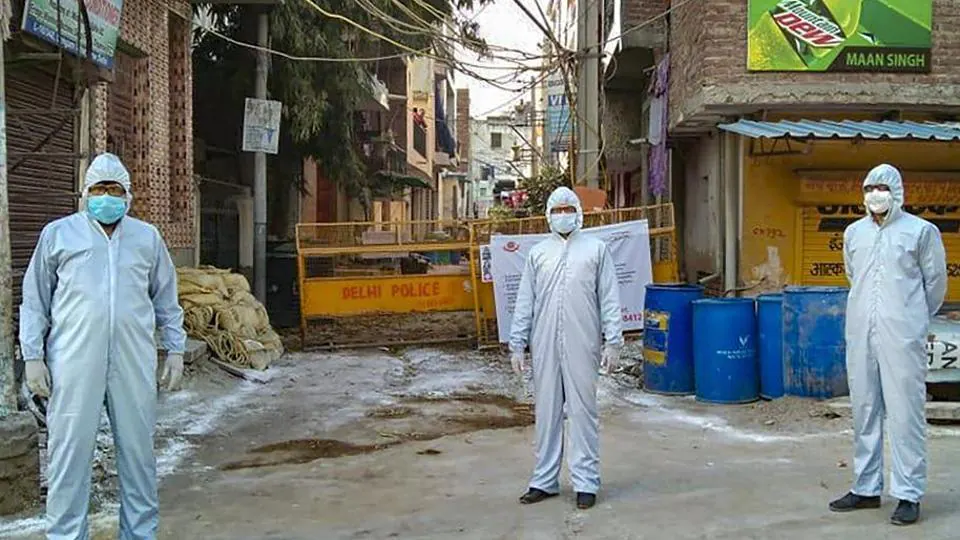Coverall: (19, 153, 189, 540), (506, 185, 626, 487), (847, 164, 948, 488)
Gloves: (156, 348, 188, 390), (22, 360, 55, 393), (600, 343, 626, 376)
with_mask: (87, 184, 129, 226), (545, 207, 580, 237), (861, 186, 894, 212)
